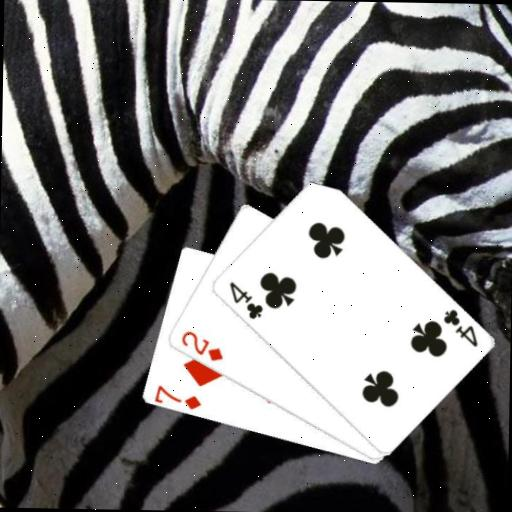2D: (177, 328, 225, 363)
4C: (439, 306, 480, 349), (225, 279, 265, 322)
7D: (152, 382, 203, 411)
